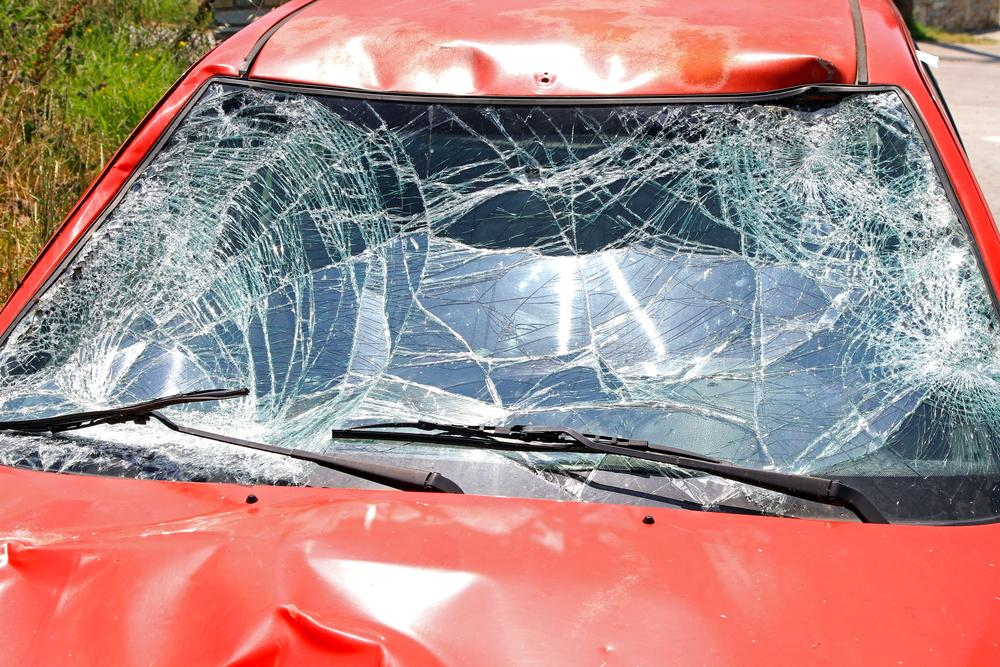dent: (2, 502, 609, 667), (285, 41, 499, 94), (630, 56, 846, 92)
